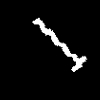half_double_crochet: (33, 18, 85, 71)
